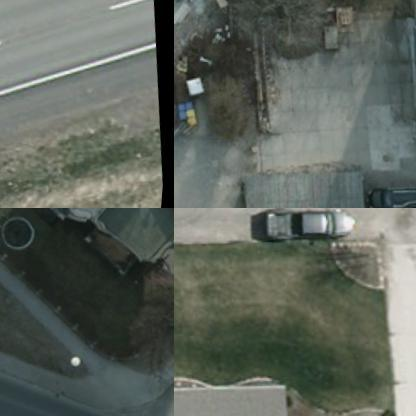car: (364, 167, 415, 205)
pickup: (264, 208, 360, 242)
